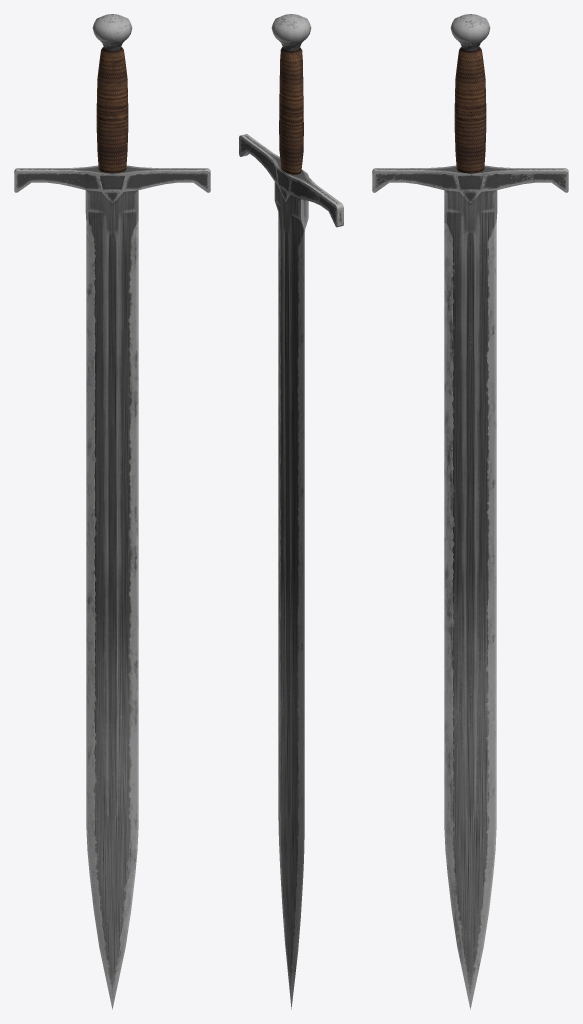
File: Shortsword_02.fbx
3 renders of one model, left to right at view 1: azimuth 90°, elevation 25°; view 2: azimuth 210°, elevation 25°; view 3: azimuth 270°, elevation 25°, orthographic.
Parts seen in each view (by area): view 1: Shortsword_02_LOD0; view 2: Shortsword_02_LOD0; view 3: Shortsword_02_LOD0.
Boxes of the visible parts, box(x1,y1,x2,y2) form: Shortsword_02_LOD0: box(14, 14, 210, 1009); Shortsword_02_LOD0: box(239, 14, 343, 1009); Shortsword_02_LOD0: box(372, 14, 568, 1009).
Size of what is drawn, in the model's own units: 3.21 by 88.28 by 15.83.
